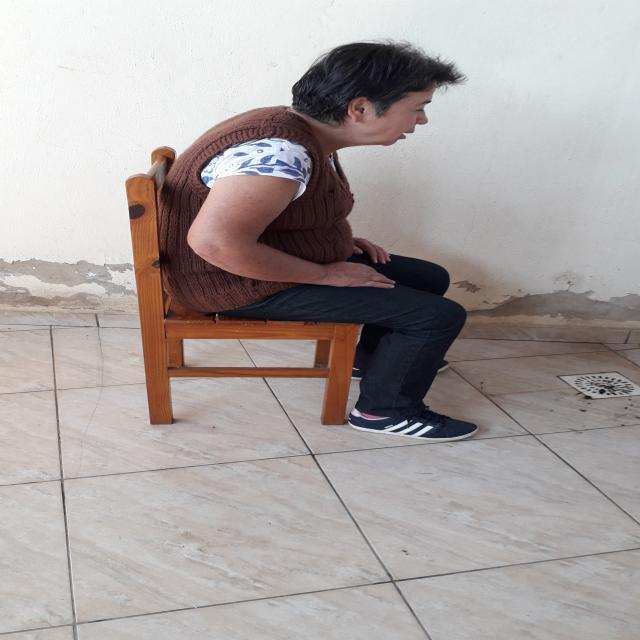bad-pose: (0, 0, 640, 640)
